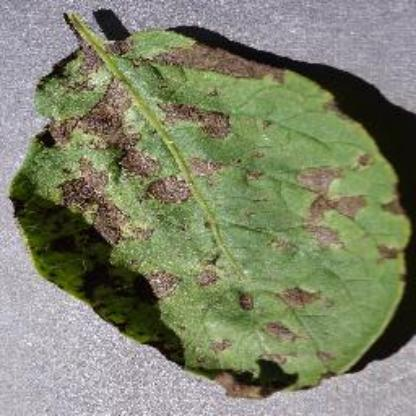Early-Blight: (13, 1, 415, 395)
